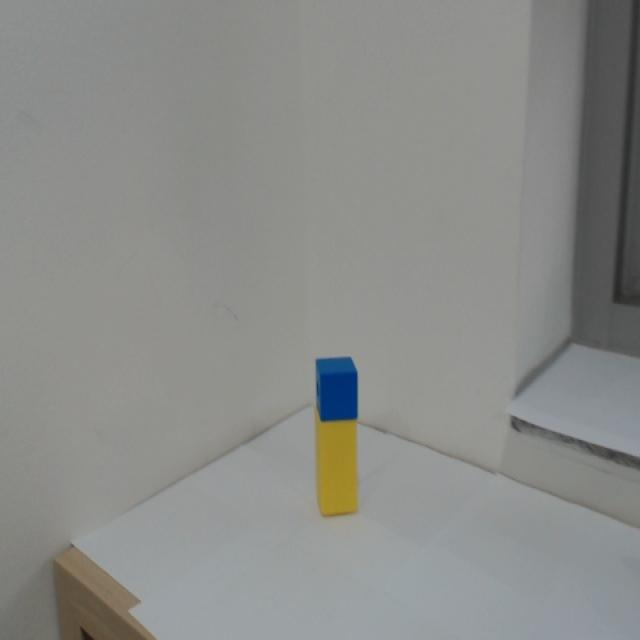cube: (314, 356, 359, 422)
